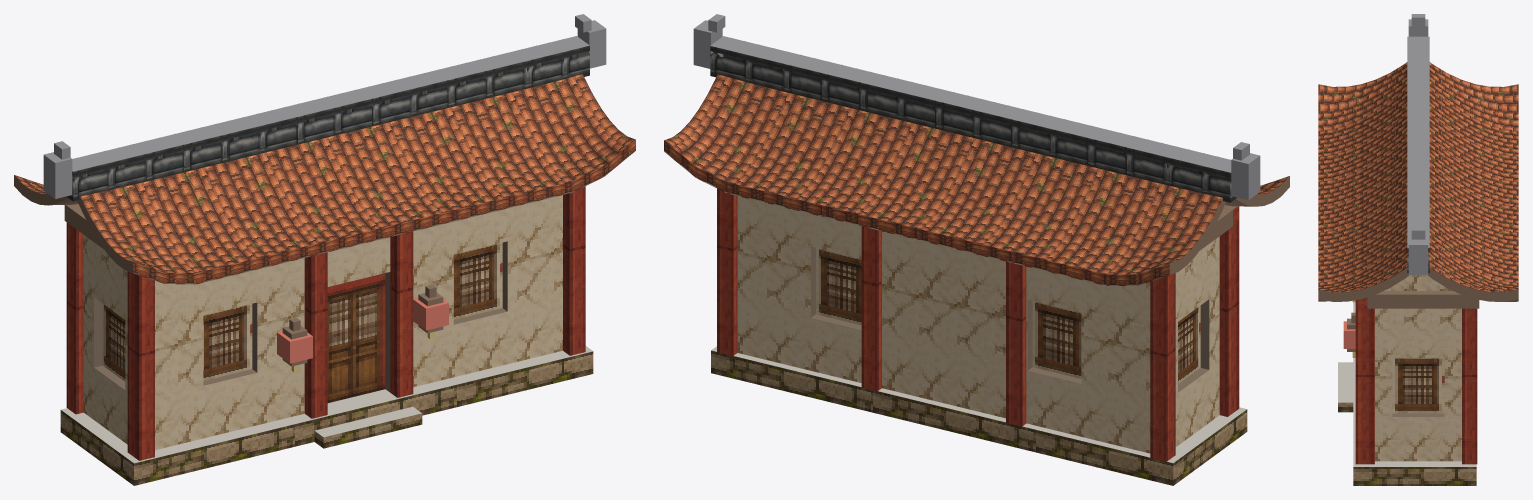
File: b_hut_o.glb
3 renders of one model, left to right at view 1: azimuth 30°, elevation 25°; view 2: azimuth 150°, elevation 25°; view 3: azimuth 270°, elevation 25°, orthographic. The views are drawn at different scales.
Visible parts, largest first — view 1: roof, plaster, post, ridge, stone, ridgeend, win, door, eave, stonetop, reveal, wood (+2 smaller); view 2: plaster, roof, post, ridge, stone, ridgeend, win, eave, stonetop, reveal, wood, under; view 3: roof, plaster, ridgeend, post, wood, win, stone, stonetop, lantern.
Boxes of the visible parts, x1,y1,x2,y2 form: roof: (14, 74, 635, 272); plaster: (83, 195, 562, 449); post: (66, 186, 585, 460); ridge: (66, 45, 589, 201); stone: (60, 351, 593, 485); ridgeend: (43, 14, 606, 198); win: (102, 242, 502, 381); door: (327, 273, 385, 402); eave: (133, 140, 635, 284); stonetop: (61, 346, 592, 463); reveal: (94, 241, 507, 392); wood: (14, 175, 443, 366); plaster: (737, 196, 1219, 453); roof: (664, 74, 1289, 274); post: (717, 188, 1239, 461); ridge: (710, 46, 1236, 202); stone: (711, 350, 1247, 485); ridgeend: (693, 14, 1260, 200); win: (816, 248, 1200, 383); eave: (664, 140, 1169, 285); stonetop: (711, 346, 1246, 462); reveal: (811, 247, 1209, 392); wood: (664, 130, 1289, 274); under: (664, 151, 1253, 285); roof: (1318, 62, 1518, 292); plaster: (1375, 275, 1461, 461); ridgeend: (1407, 14, 1429, 274); post: (1355, 300, 1477, 464); wood: (1318, 268, 1518, 351); win: (1392, 358, 1444, 413); stone: (1338, 402, 1476, 485); stonetop: (1338, 302, 1476, 466); lantern: (1343, 321, 1355, 348).
Bounding box in the file's own units: 76.8 × 42.66 × 28.78.
Materials: 16 (9 with a texture image).
